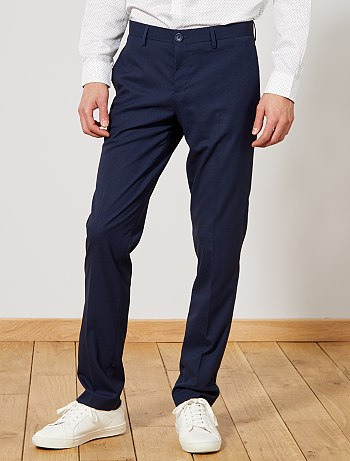feet: (20, 377, 228, 455)
